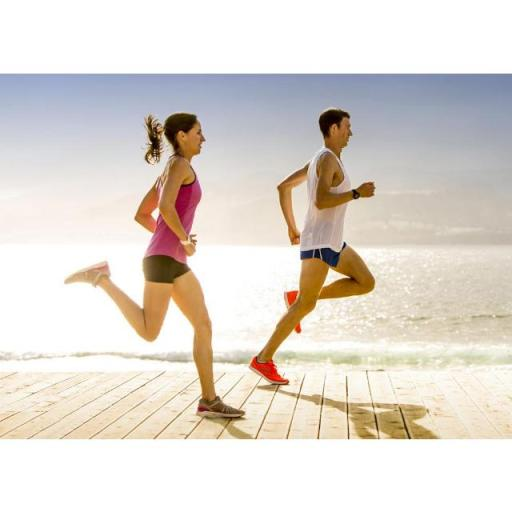Running: (60, 107, 246, 423), (245, 104, 390, 390)
